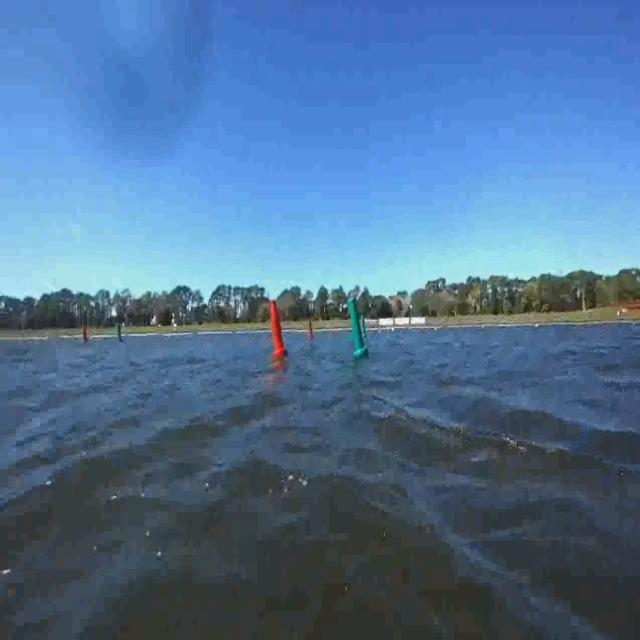green-column-buoy: (347, 297, 370, 359), (118, 323, 126, 346)
red-column-buoy: (270, 302, 289, 358), (80, 323, 89, 348), (306, 323, 313, 342)
